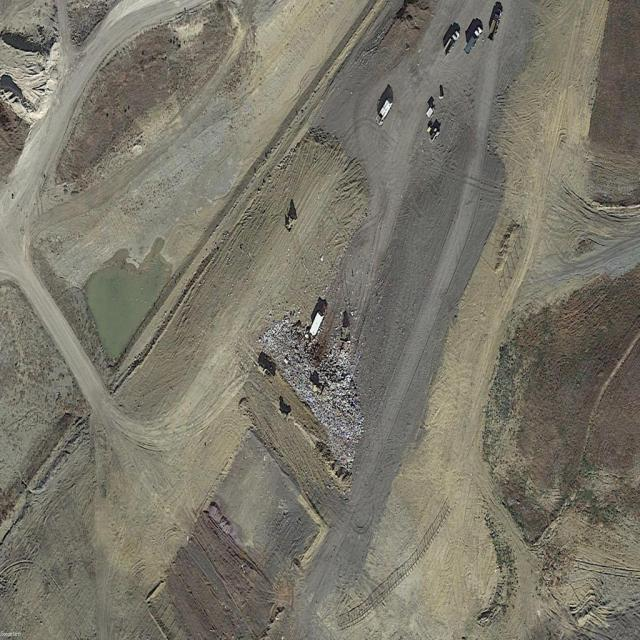dump_site: (257, 295, 383, 474)
